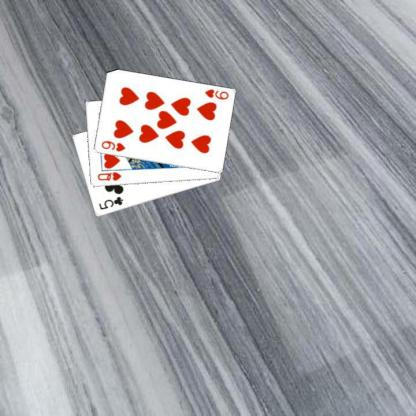5C: (96, 194, 124, 211)
9H: (98, 138, 126, 153), (203, 87, 230, 101)
QH: (95, 169, 122, 182)
